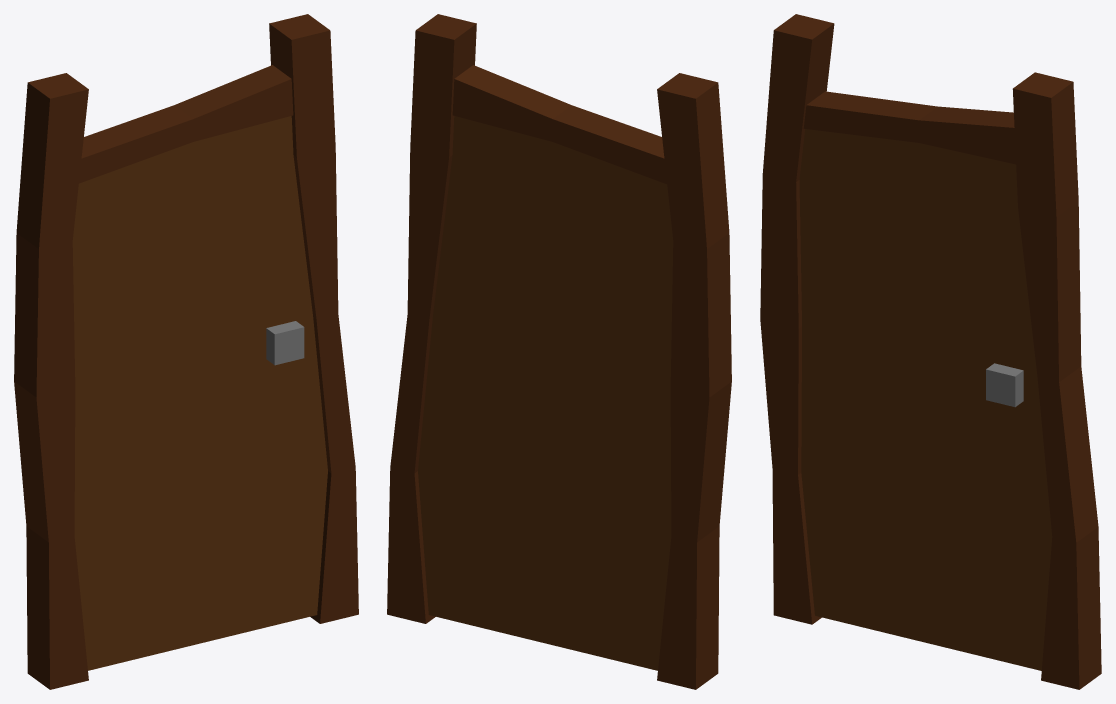
Rendered from House01_Door.fbx.
The picture shows the model from 3 angles, left to right: view 1: azimuth 30°, elevation 25°; view 2: azimuth 150°, elevation 25°; view 3: azimuth 330°, elevation 25°; orthographic projection.
Parts seen in each view (by area): view 1: house001_Door; view 2: house001_Door; view 3: house001_Door.
Boxes of the visible parts, box(x1,y1,x2,y2) form: house001_Door: box(14, 14, 358, 689); house001_Door: box(387, 14, 731, 689); house001_Door: box(760, 14, 1101, 689).
Size of what is drawn, in the model's own units: 239 by 418 by 35.45.
